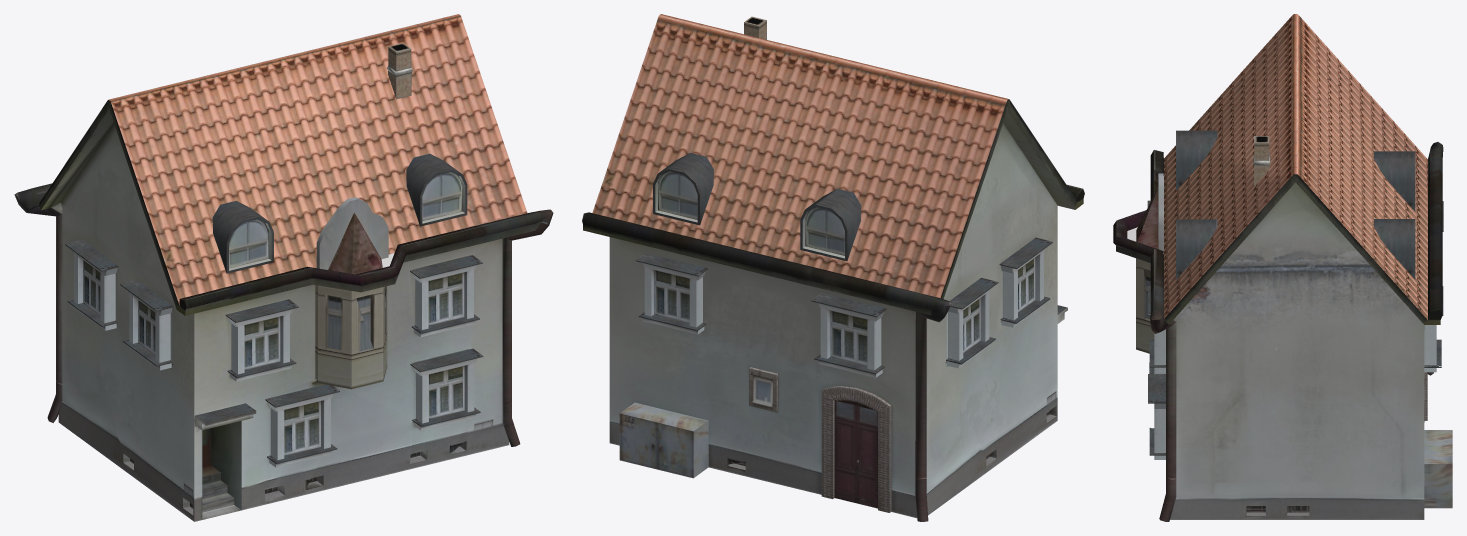
The model's file is building-type-b.glb.
3 views of the same model, side by side, from view 1: azimuth 30°, elevation 25°; view 2: azimuth 150°, elevation 25°; view 3: azimuth 270°, elevation 25° (orthographic). The views are drawn at different scales.
Parts seen in each view (by area): view 1: house; view 2: house; view 3: house.
Boxes of the visible parts, <box> form: house: <box>14,14,553,521</box>; house: <box>582,14,1084,521</box>; house: <box>1113,14,1452,521</box>.
Bounding box in the file's own units: 3.15 × 2.94 × 2.55.
Materials: 1 (1 with a texture image).
